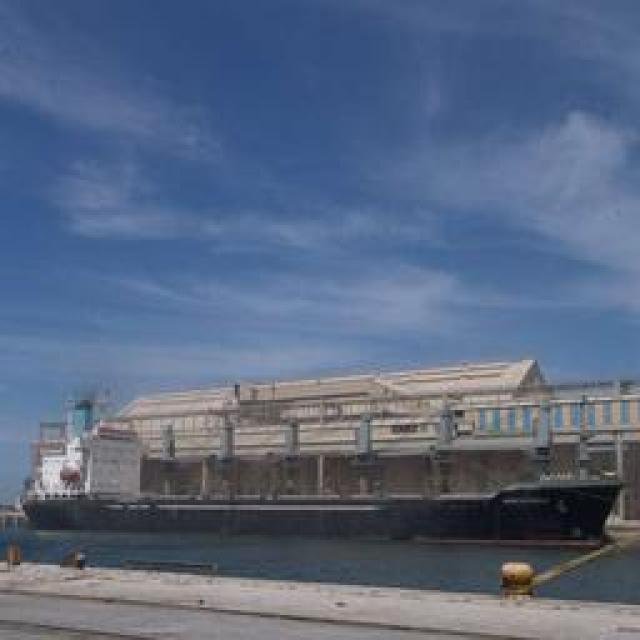ship2: (19, 395, 635, 551)
